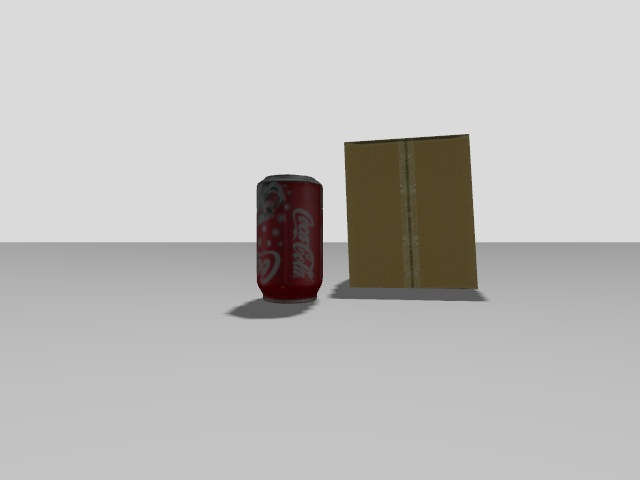canette: (257, 175, 322, 302)
carton: (346, 135, 477, 287)
